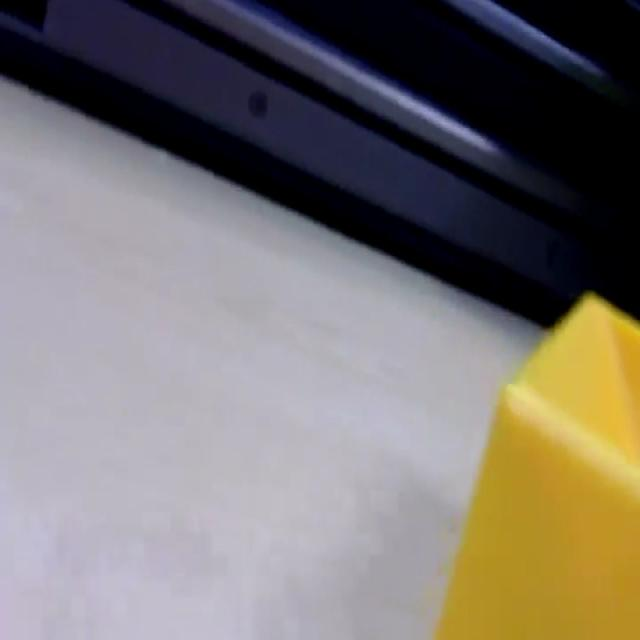yellow_block: (432, 288, 638, 636)
